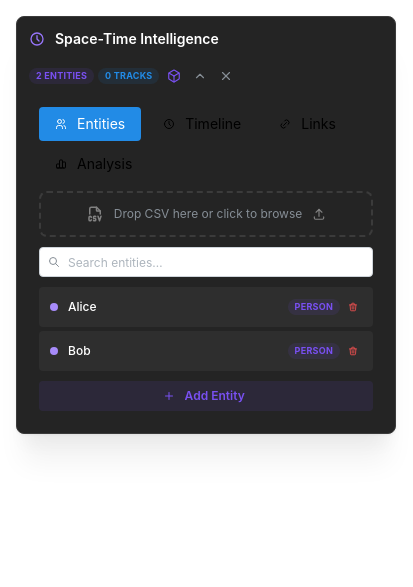
Analysis tab buttons › disables the buttons until tracks are imported
What coordinates should you click on to do the following:
click the tab "Analysis"
I would click on:
 (94, 164)
Its box is 39,147 -> 148,181.
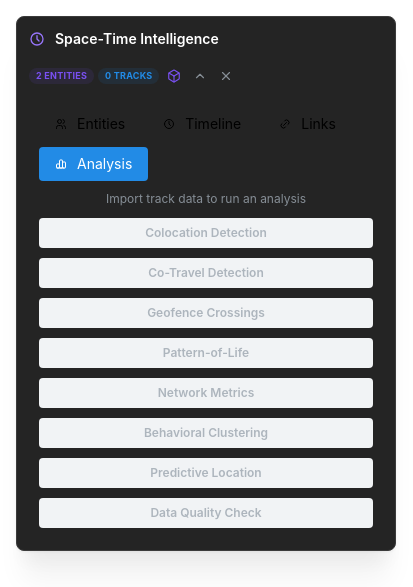
Now the button "Colocation Detection" is disabled, box 39,218 -> 373,248
